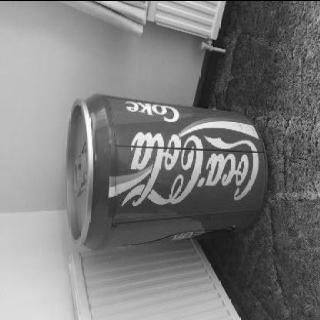alumunium_can: (64, 92, 268, 250)
